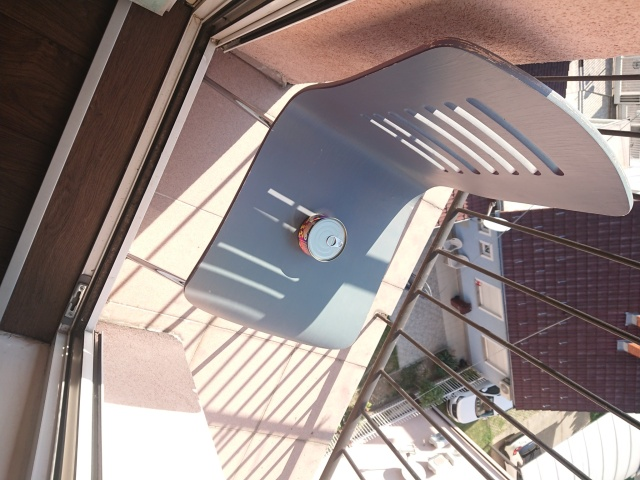Giana Tuna Salad Mexico 185g: (297, 212, 350, 266)
